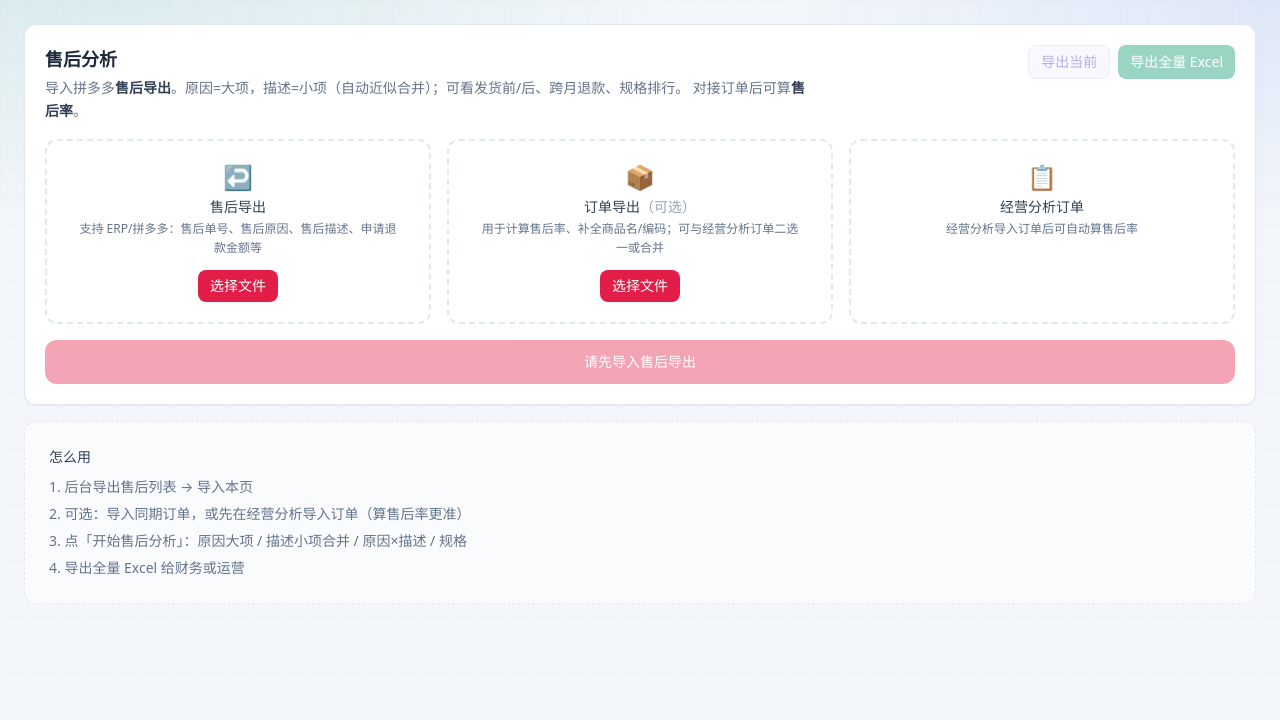
Scenario: 售后跨月退款统计 › 独立显示跨月退款订单数、占比，并可筛选明细
This screenshot has width=1280, height=720.
Click the button "选择文件" below "支持 ERP/拼多多：售后单号、售后原因、售后描述、申请退款金额等".
click(238, 286)  # box [198,270,278,302]
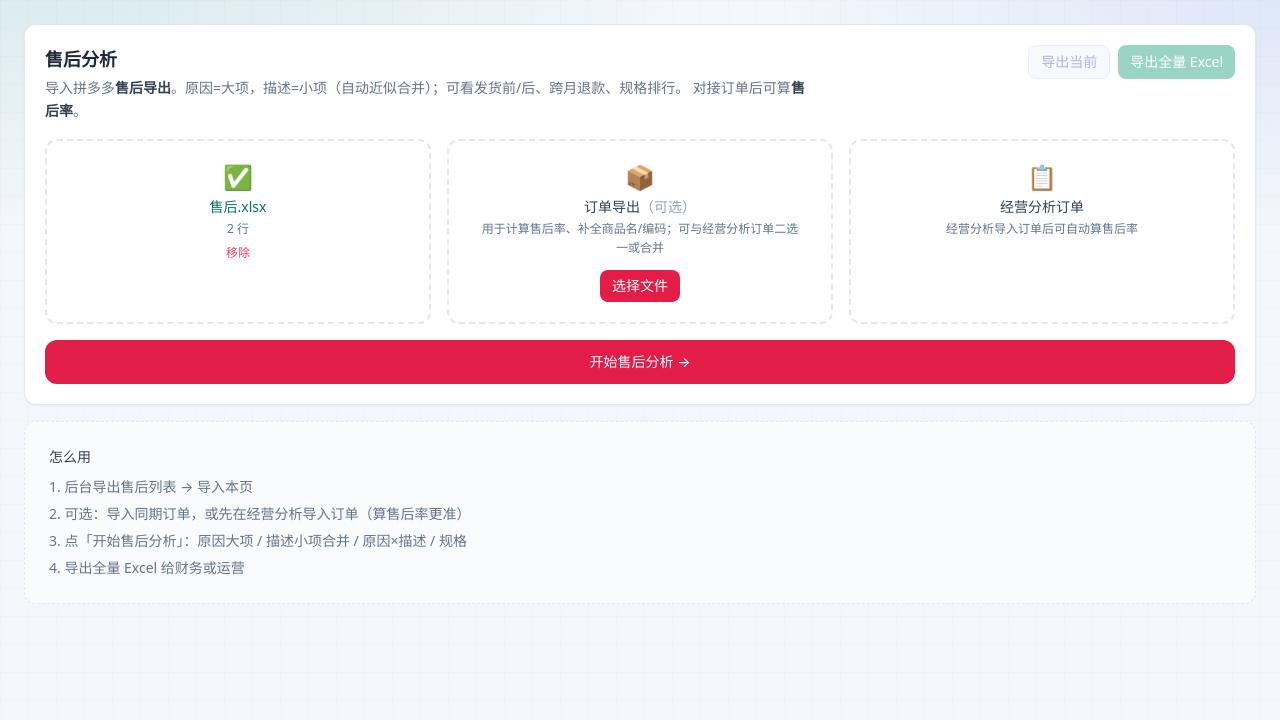
Now the text "售后.xlsx" is shown, box [210,196,266,216]
Click the button "选择文件".
click(640, 286)  # box [600,270,680,302]
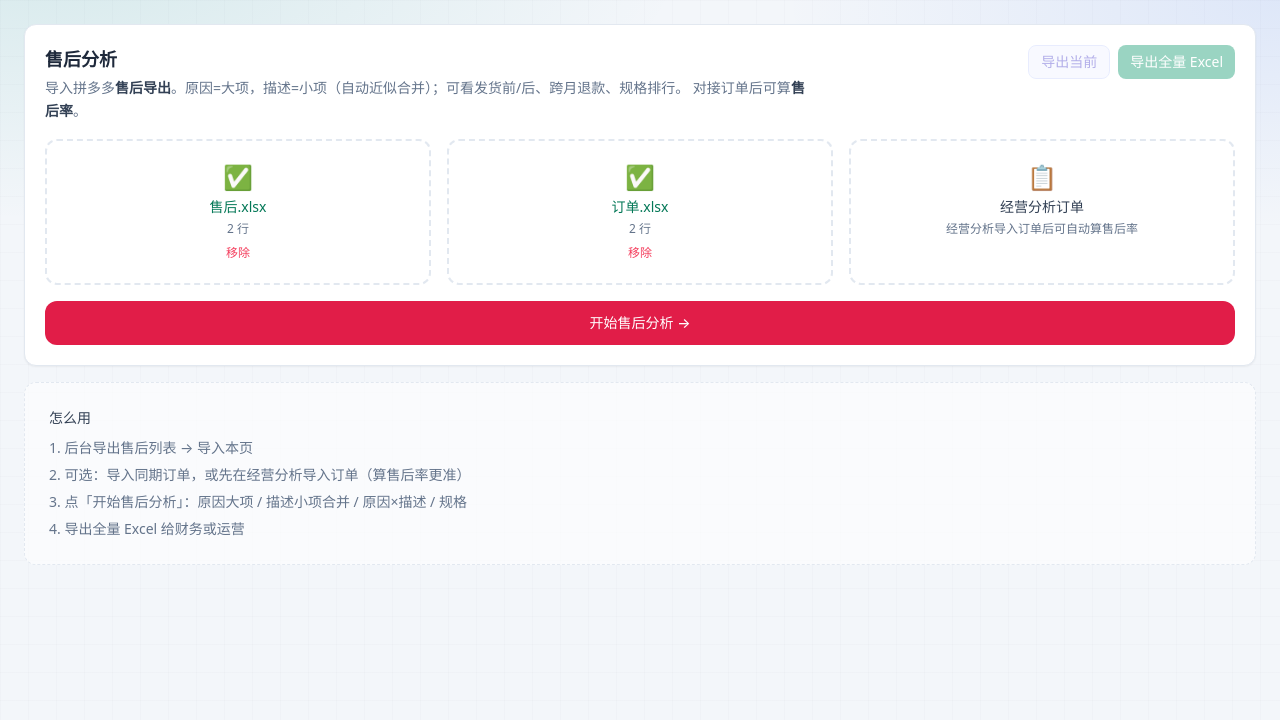
Now the text "订单.xlsx" is shown, box [612,196,668,216]
Click the button "开始售后分析 →".
click(640, 322)  # box [45,300,1235,344]
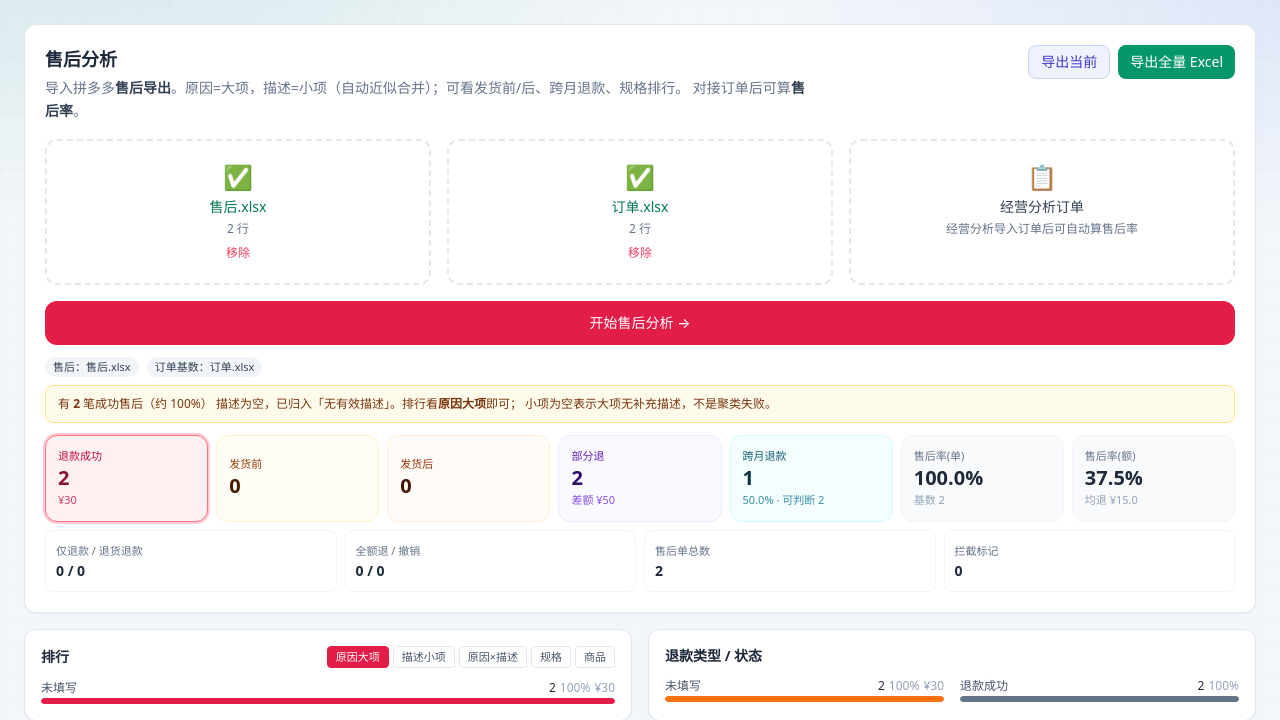
Now the button "跨月退款 1 50.0% · 可判断 2" is shown
Click the button "跨月退款 1 50.0% · 可判断 2".
click(811, 478)  # box [730,434,893,522]
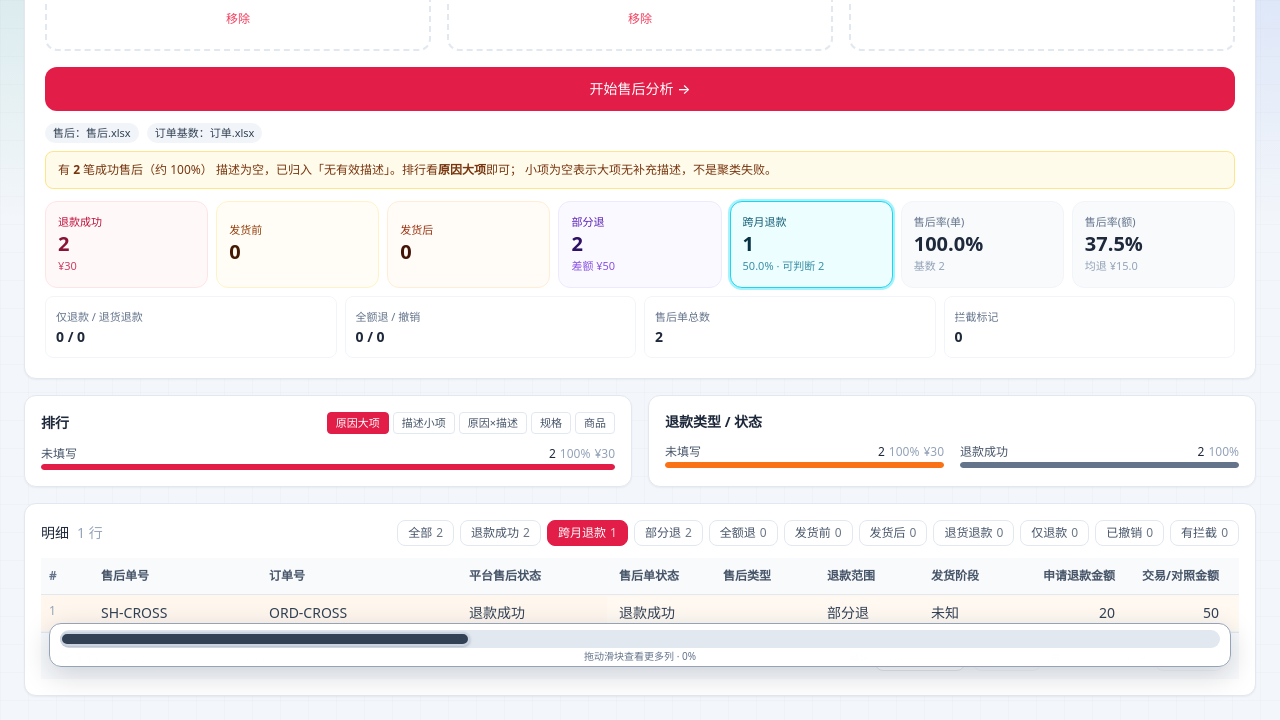
Now the text "1 行" is shown, box [77,523,103,542]
